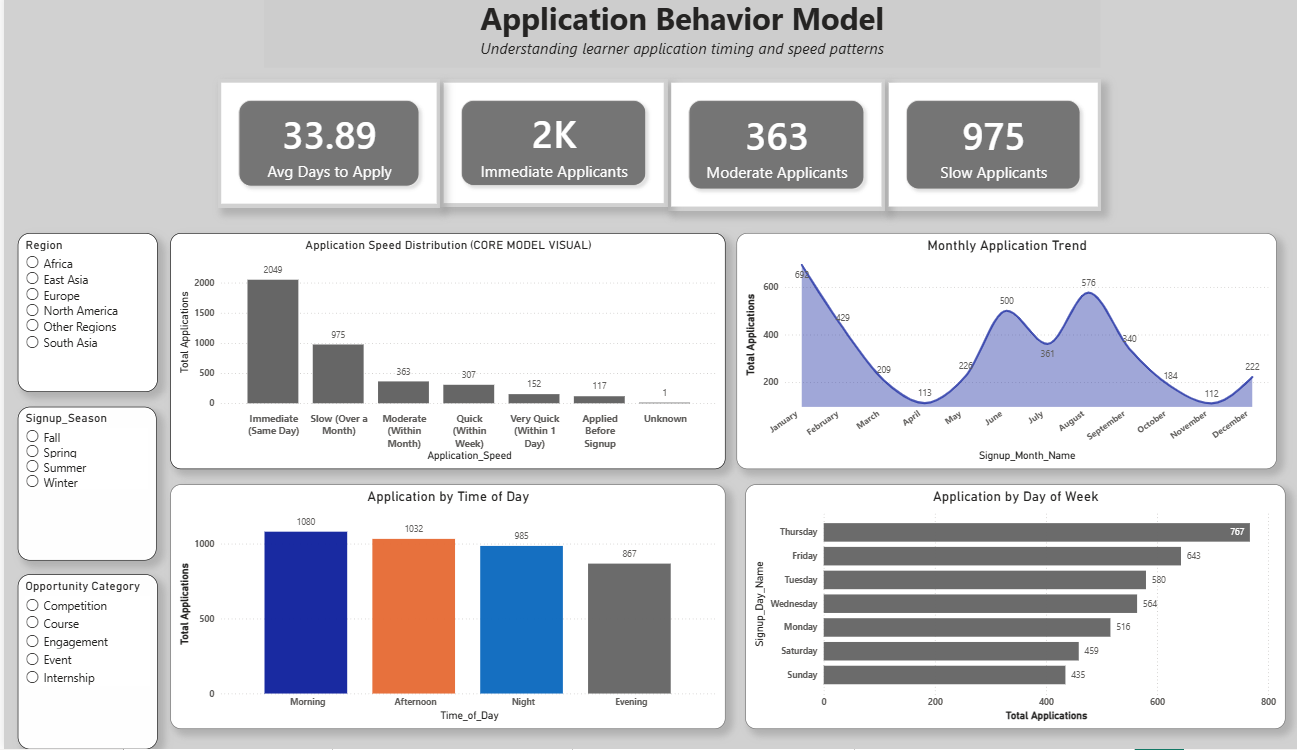

The page's visual inventory and layout, read from the dashboard file:
{"tool":"powerbi","page":{"name":"Application Behavior Model","canvas":[1800,1050],"ordinal":1},"visuals":[{"type":"textbox","box":[361.1,0,1161.5,104.2],"z":0},{"type":"cardVisual","fields":{"Data":["Dataset.Immediate Applicants"]},"box":[545.1,135.4,316,177.1],"z":1000},{"type":"cardVisual","fields":{"Data":["Dataset.Avg Days to Apply"]},"box":[95.5,135.4,309,178.8],"z":2000},{"type":"cardVisual","fields":{"Data":["Dataset.Moderate Applicants"]},"box":[1003.5,131.9,302.1,182.3],"z":3000},{"type":"cardVisual","fields":{"Data":["Dataset.Slow Applicants"]},"box":[1432.3,131.9,300.3,182.3],"z":4000},{"type":"clusteredColumnChart","title":"Application Speed Distribution (CORE MODEL VISUAL)","fields":{"Category":["Dataset.Application_Speed"],"Y":["Dataset.Total Applications"]},"box":[250.8,350.6,752.3,287.9],"z":5000},{"type":"clusteredColumnChart","title":"Application by Time of Day","fields":{"Category":["Dataset.Time_of_Day"],"Y":["Dataset.Total Applications"]},"box":[248.3,682.3,753.5,340.3],"z":6000},{"type":"barChart","title":"Application by Day of Week","fields":{"Category":["Dataset.Signup_Day_Name"],"Y":["Dataset.Total Applications"]},"box":[1033,682.3,750,340.3],"z":7000},{"type":"lineChart","title":"Monthly Application Trend","fields":{"Category":["Dataset.Signup_Month_Name"],"Y":["Dataset.Total Applications"]},"box":[1033,350.7,750,288.2],"z":8000},{"type":"listSlicer","fields":{"Values":["Dataset.Region"]},"box":[19.1,333.3,194.4,220.5],"z":9000},{"type":"listSlicer","fields":{"Values":["Dataset.Signup_Season"]},"box":[19.1,574.7,192.7,213.5],"z":10000},{"type":"listSlicer","fields":{"Values":["Dataset.Opportunity Category"]},"box":[19.1,807.3,194.4,243.1],"z":11000}]}

Visuals, with their boxes in screenshot pixels (x1, y1, x2, y2), scaled from the page's 1800x1050 canvas onto the 1297x750 screenshot:
textbox: 260 0 1097 74
cardVisual - Dataset.Immediate Applicants: 393 97 620 223
cardVisual - Dataset.Avg Days to Apply: 69 97 291 224
cardVisual - Dataset.Moderate Applicants: 723 94 941 224
cardVisual - Dataset.Slow Applicants: 1032 94 1248 224
"Application Speed Distribution (CORE MODEL VISUAL)" clusteredColumnChart: 181 250 723 456
"Application by Time of Day" clusteredColumnChart: 179 487 722 730
"Application by Day of Week" barChart: 744 487 1285 730
"Monthly Application Trend" lineChart: 744 250 1285 456
listSlicer - Dataset.Region: 14 238 154 396
listSlicer - Dataset.Signup_Season: 14 411 153 563
listSlicer - Dataset.Opportunity Category: 14 577 154 749
